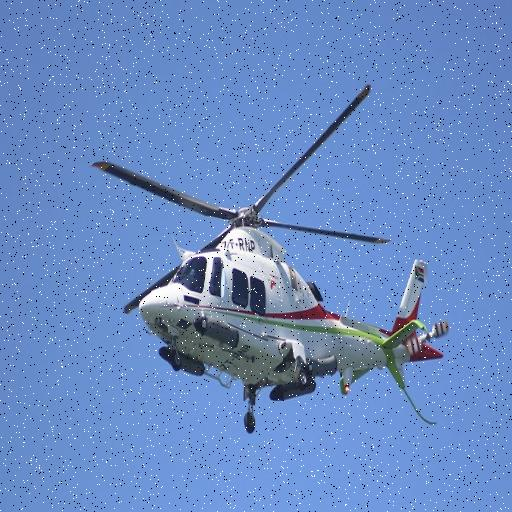helicopter: (101, 98, 453, 415)
